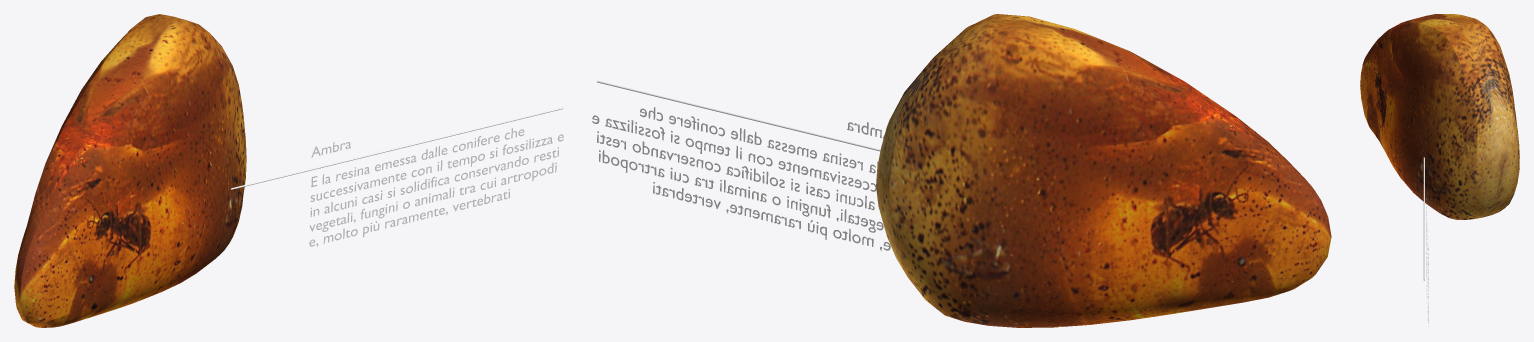
Rendered from Ambra.gltf.
The picture shows the model from 3 angles, left to right: view 1: azimuth 30°, elevation 25°; view 2: azimuth 150°, elevation 25°; view 3: azimuth 270°, elevation 25°; orthographic projection. The views are drawn at different scales.
Visible parts, largest first — view 1: Sfera, Text, riga; view 2: Sfera, Text, riga; view 3: Sfera, riga, Text.
Part boxes in pixels (x1,y1,x2,y2): Sfera: (14, 14, 246, 327); Text: (309, 128, 563, 246); riga: (231, 107, 563, 189); Sfera: (876, 14, 1331, 327); Text: (592, 107, 890, 250); riga: (597, 80, 880, 151); Sfera: (1360, 14, 1519, 219); riga: (1423, 157, 1424, 280); Text: (1426, 198, 1428, 326).
Size of the model in its own units: 8.03 by 3.3 by 2.51.
2 materials, 1 textured.
